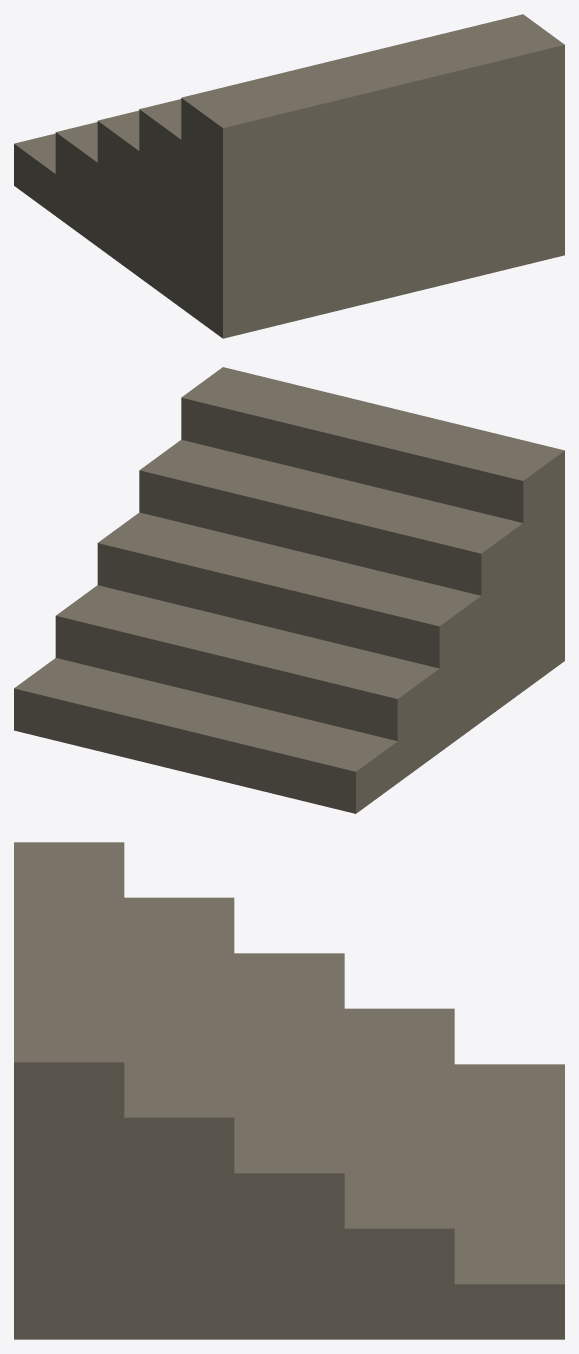
The model's file is stairs-closed.glb.
The picture shows the model from 3 angles, top to bottom: view 1: azimuth 30°, elevation 25°; view 2: azimuth 150°, elevation 25°; view 3: azimuth 270°, elevation 25°; orthographic projection. The views are drawn at different scales.
Parts seen in each view (by area): view 1: stairs-closed; view 2: stairs-closed; view 3: stairs-closed.
Part boxes in pixels (<box>): stairs-closed: <box>14,14,564,338</box>; stairs-closed: <box>14,367,564,813</box>; stairs-closed: <box>14,842,564,1339</box>.
Size of the model in its own units: 0.85 by 0.5 by 0.9.
